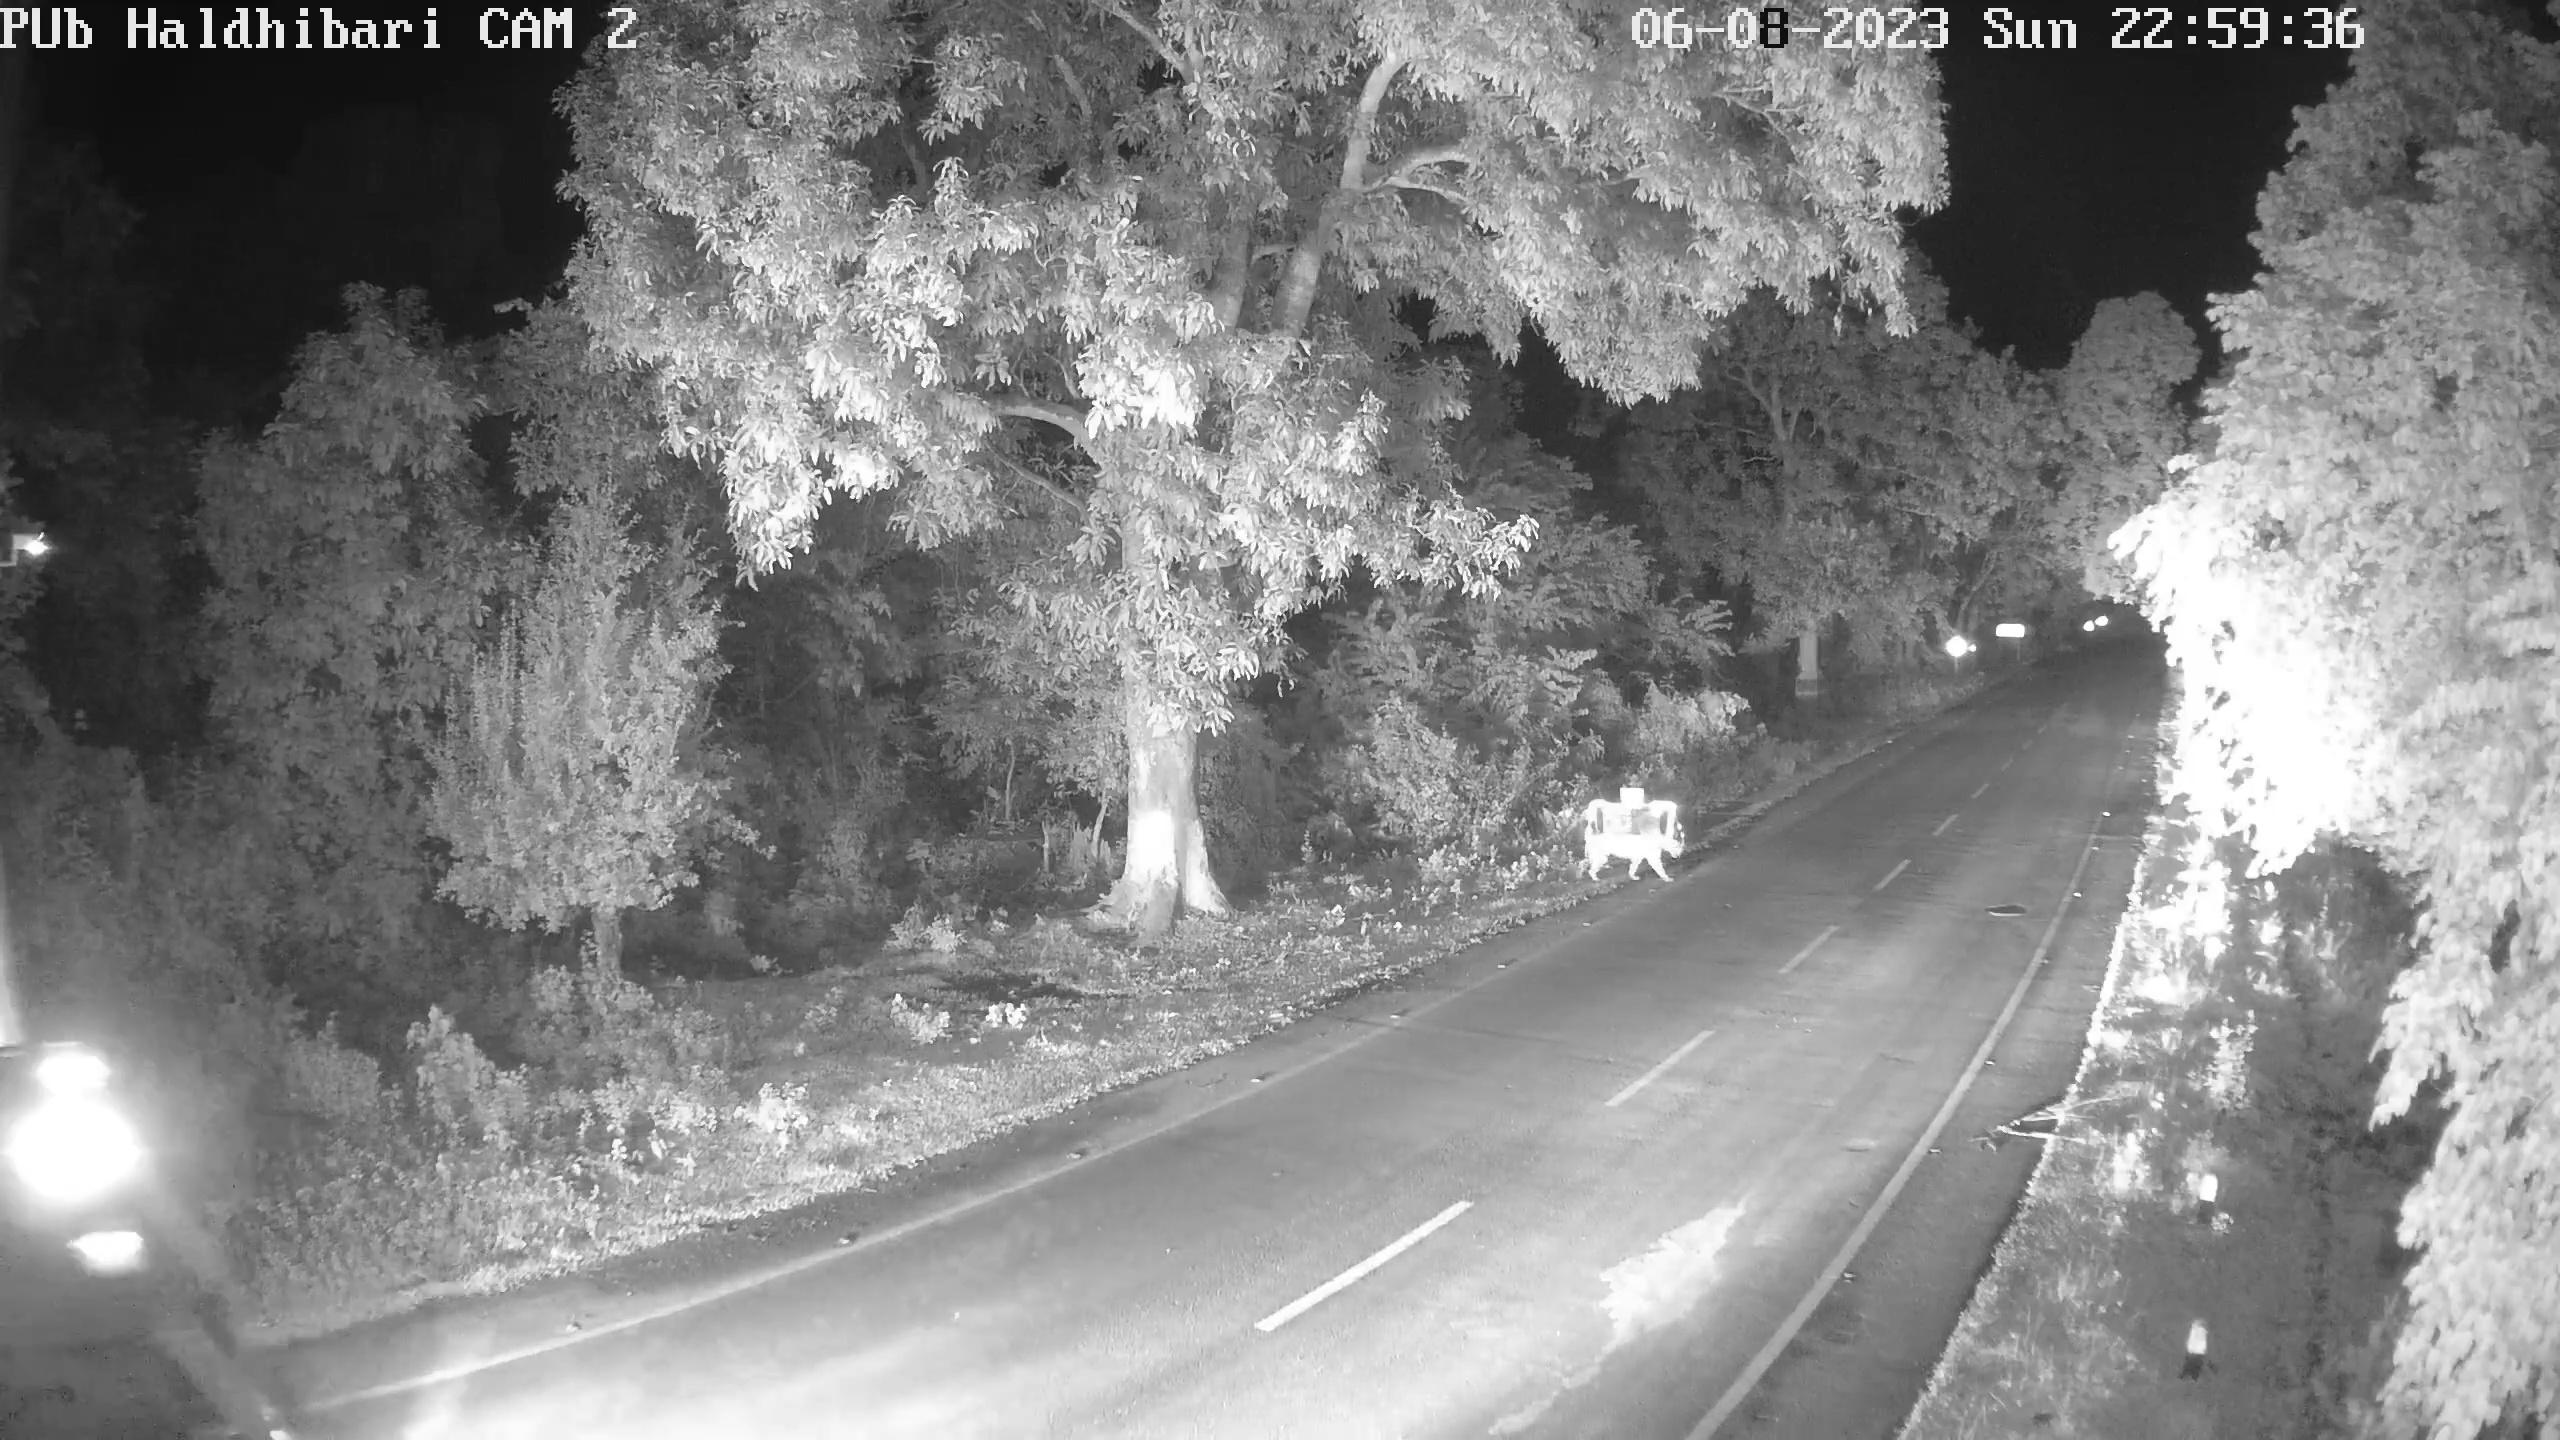tigers: (1582, 833, 1684, 879)
